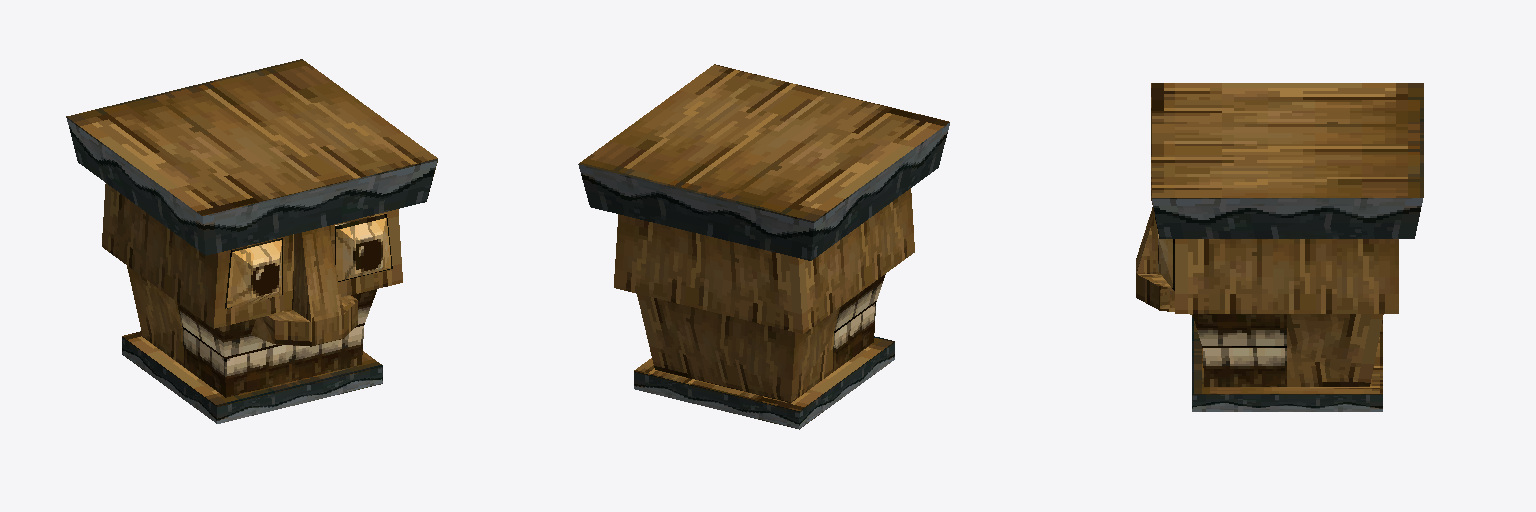
3 renders of one model, left to right at view 1: azimuth 30°, elevation 25°; view 2: azimuth 150°, elevation 25°; view 3: azimuth 270°, elevation 25°, orthographic.
Visible parts, largest first — view 1: Object_1; view 2: Object_1; view 3: Object_1.
Part boxes in pixels (bbox=[...]): Object_1: bbox=[66, 59, 437, 423]; Object_1: bbox=[578, 64, 949, 429]; Object_1: bbox=[1136, 83, 1423, 411].
Bounding box in the file's own units: 1.07 × 0.9999 × 1.12.
Materials: 1 (1 with a texture image).